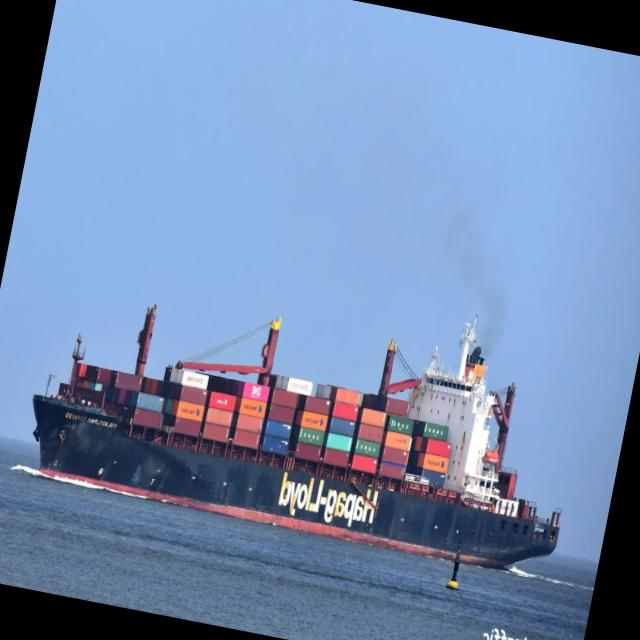Cargo: (33, 306, 560, 567)
